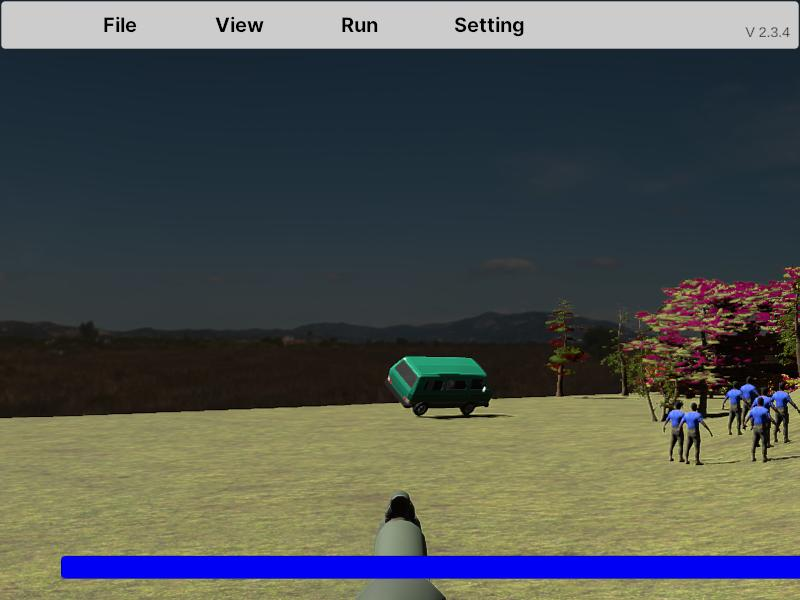Human: (744, 396, 777, 462), (679, 401, 713, 465), (768, 381, 799, 444), (663, 400, 689, 462), (722, 380, 748, 436), (736, 376, 760, 427)
car: (387, 356, 491, 418)
